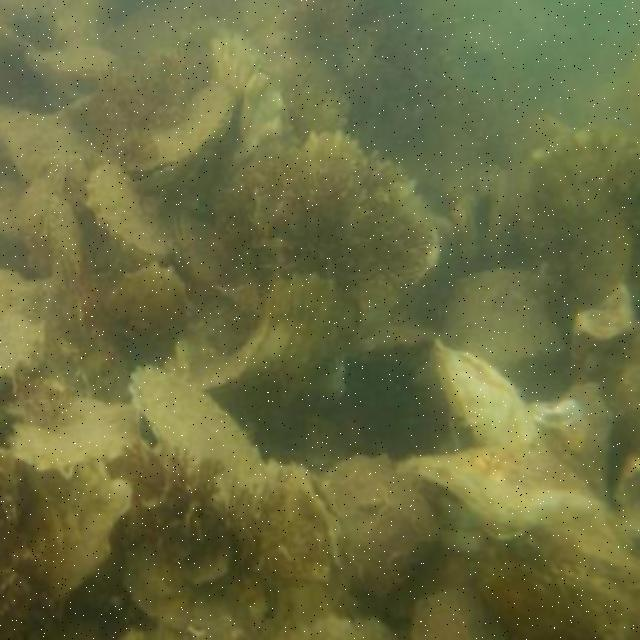Oyster-Closed: (196, 282, 365, 428), (476, 501, 638, 638), (397, 442, 612, 530), (317, 455, 441, 595), (132, 366, 264, 494), (20, 459, 133, 601), (228, 463, 345, 589), (208, 37, 299, 197), (443, 268, 566, 379), (431, 345, 539, 448), (90, 159, 182, 265), (5, 395, 133, 465), (0, 273, 61, 397), (410, 589, 513, 638), (109, 267, 186, 329), (25, 43, 123, 89), (575, 290, 638, 360)
Oyster-Open: (118, 81, 238, 192)
